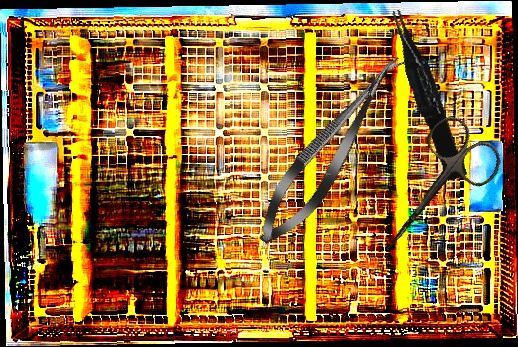Iris Scissors: (355, 109, 509, 274)
Micro Scissor: (244, 43, 418, 256)
Tissue Forceps: (387, 4, 468, 184)
